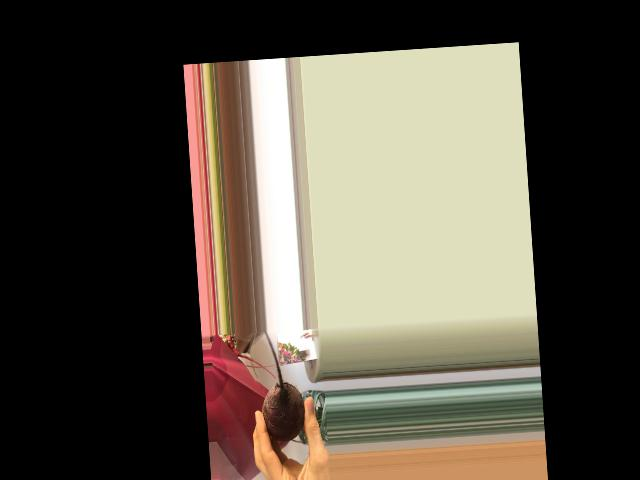beet: (257, 328, 306, 443)
